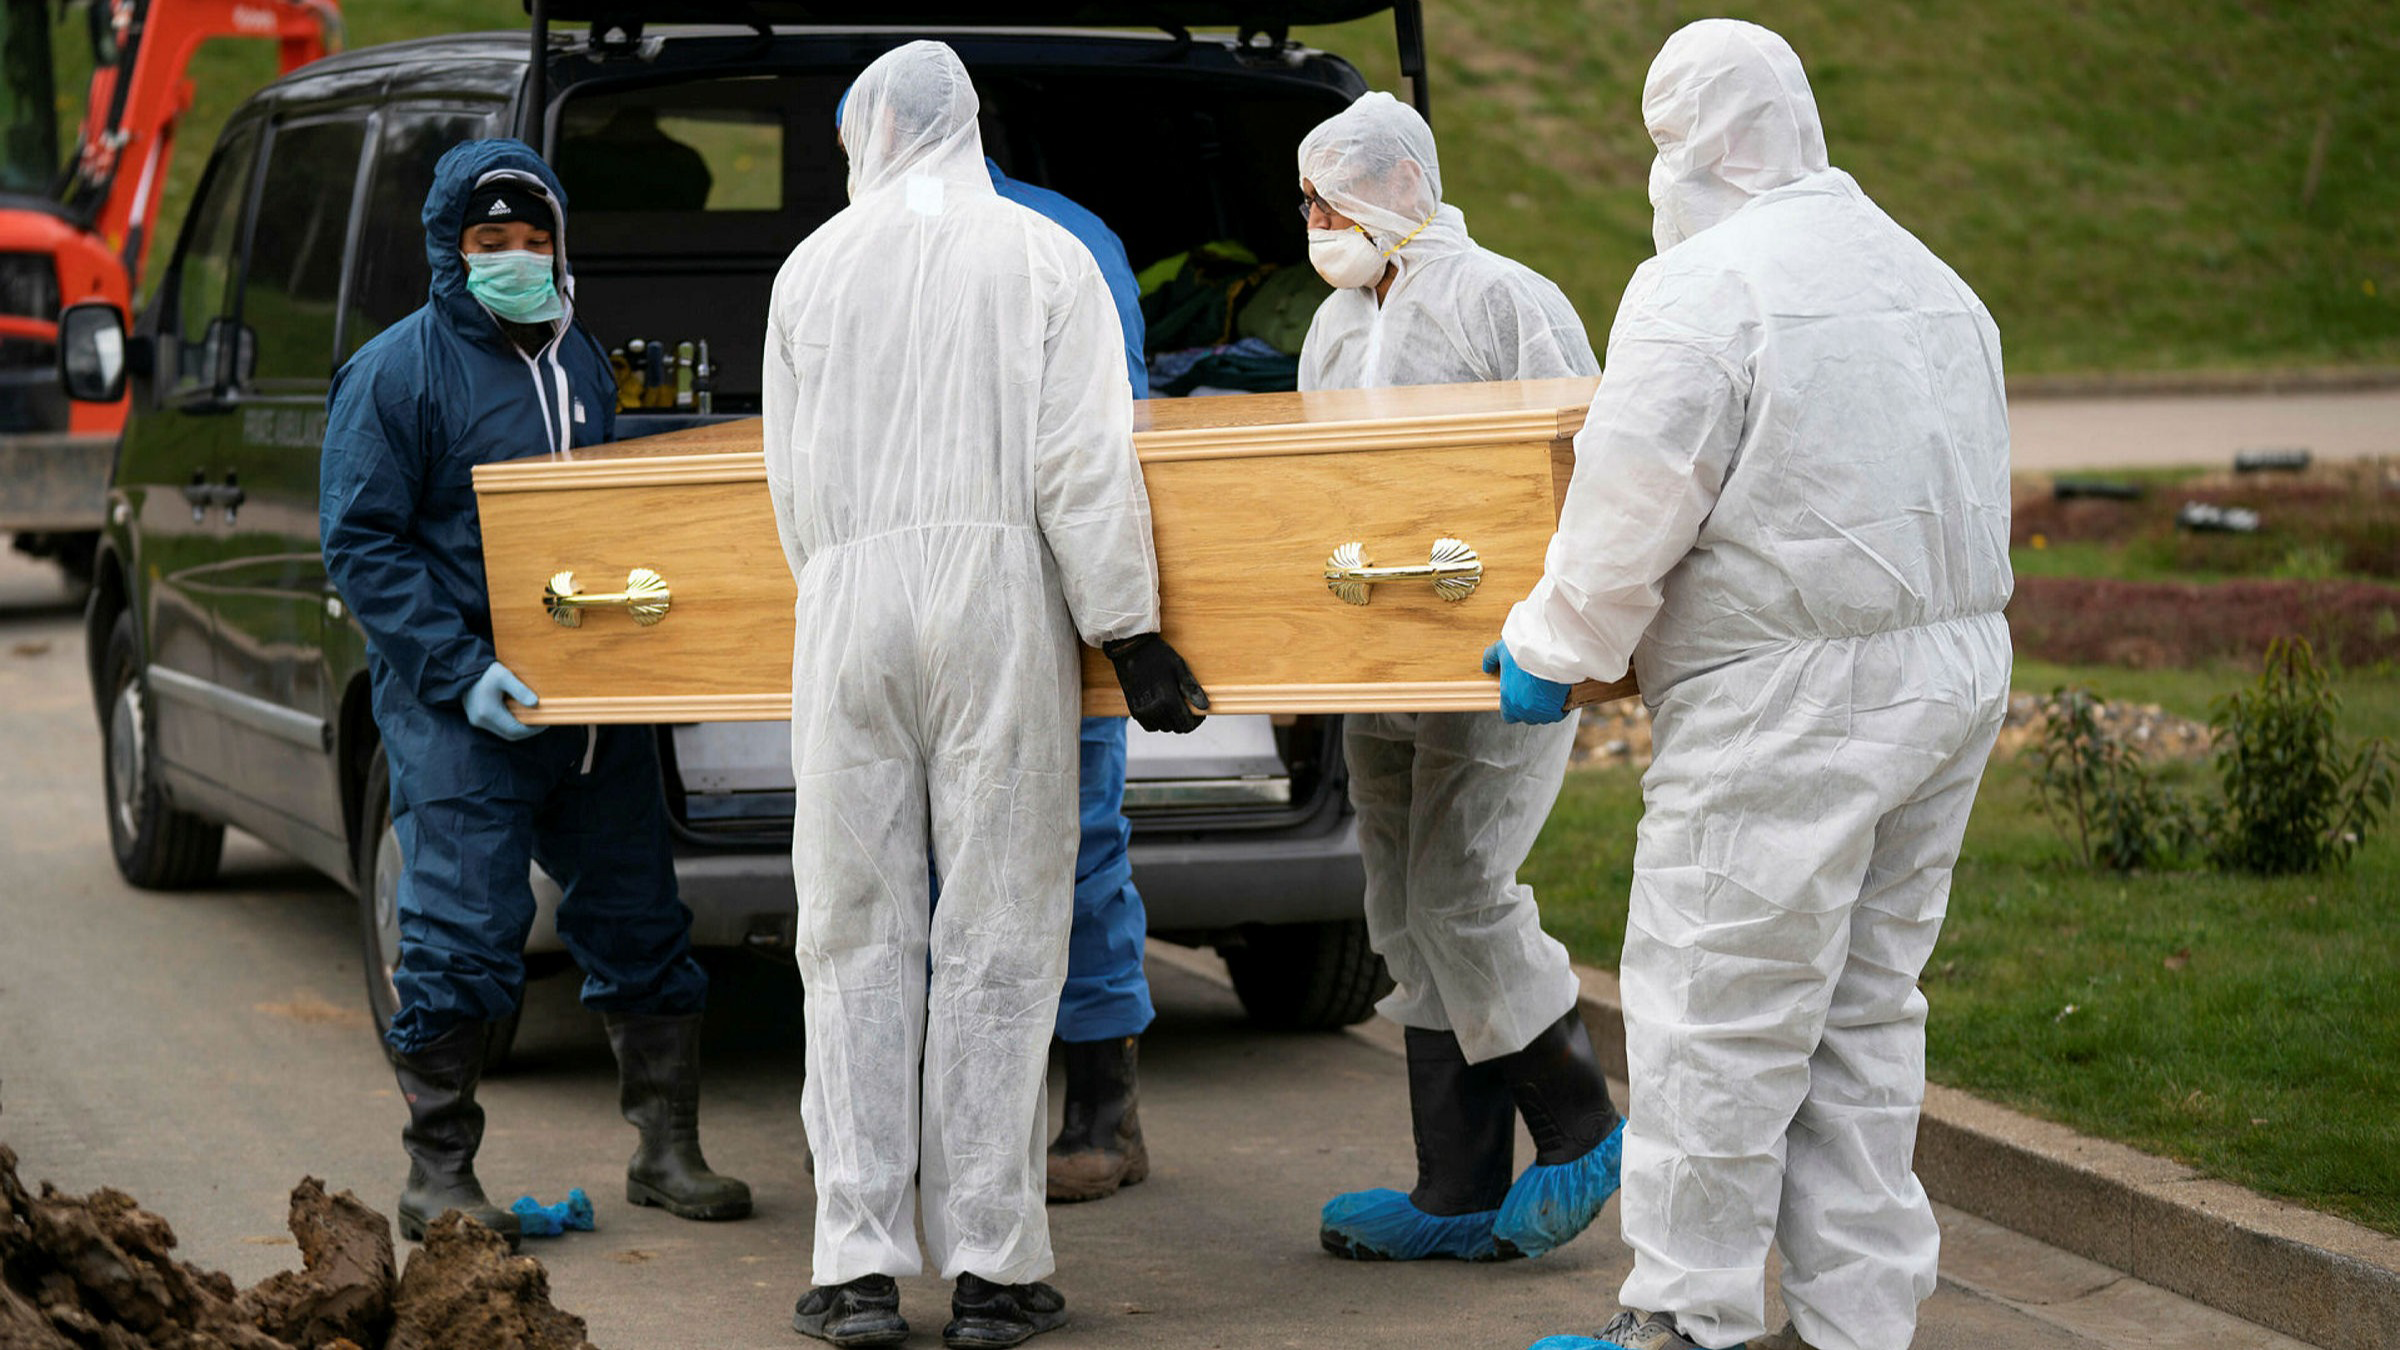Coverall: (1594, 209, 1970, 1329), (766, 198, 1113, 1269), (356, 302, 631, 1029)
Gloves: (1098, 626, 1228, 742), (1477, 621, 1582, 734), (458, 664, 565, 752)
Mask: (470, 242, 565, 328), (1301, 208, 1390, 293)
